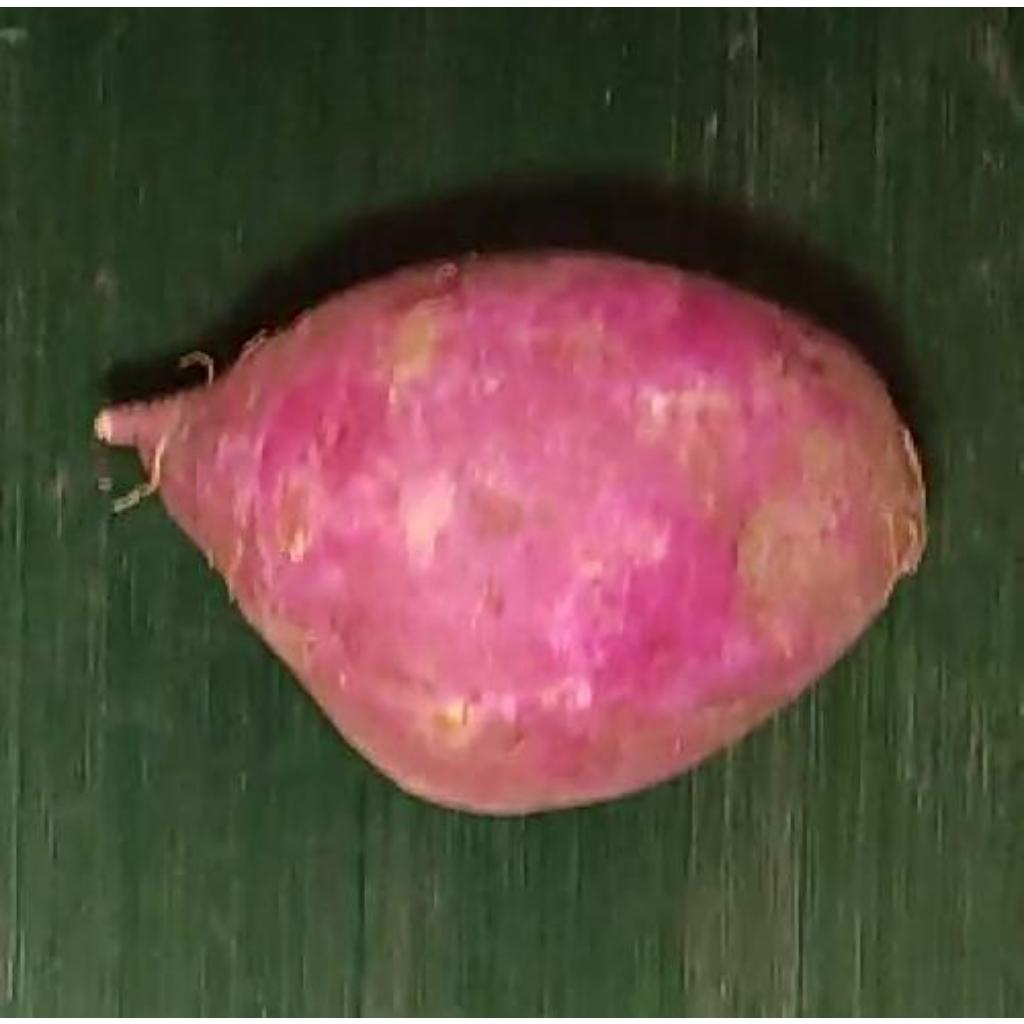Sweet Potato: (96, 252, 930, 815)
